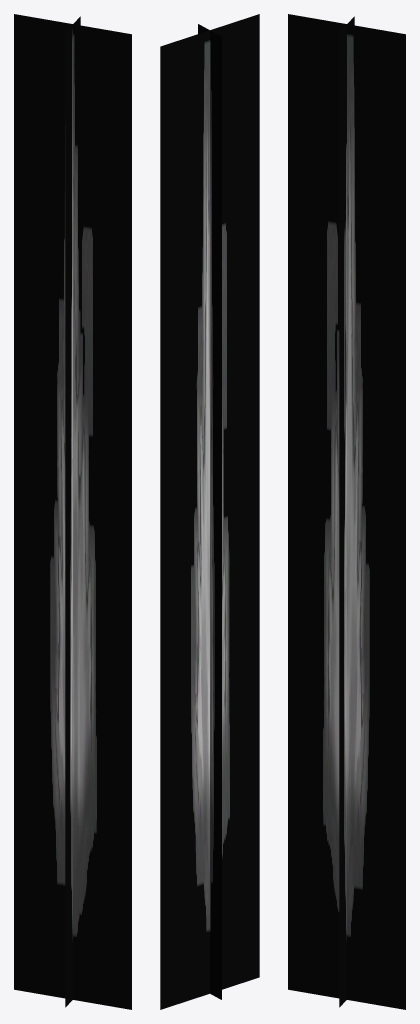
The model's file is effect_Zuiezhishou_atk02_dongzuo_pre.fbx.
3 views of the same model, side by side, from view 1: azimuth 90°, elevation 25°; view 2: azimuth 150°, elevation 25°; view 3: azimuth 270°, elevation 25° (orthographic).
Parts seen in each view (by area): view 1: effect_Zuiezhishou_shizipian_mo; view 2: effect_Zuiezhishou_shizipian_mo; view 3: effect_Zuiezhishou_shizipian_mo.
Boxes of the visible parts, box(x1,y1,x2,y2) form: effect_Zuiezhishou_shizipian_mo: box(14, 14, 131, 1009); effect_Zuiezhishou_shizipian_mo: box(160, 14, 259, 1009); effect_Zuiezhishou_shizipian_mo: box(288, 14, 405, 1009).
Size of the model in its own units: 0.329 by 7.38 by 0.8073.
